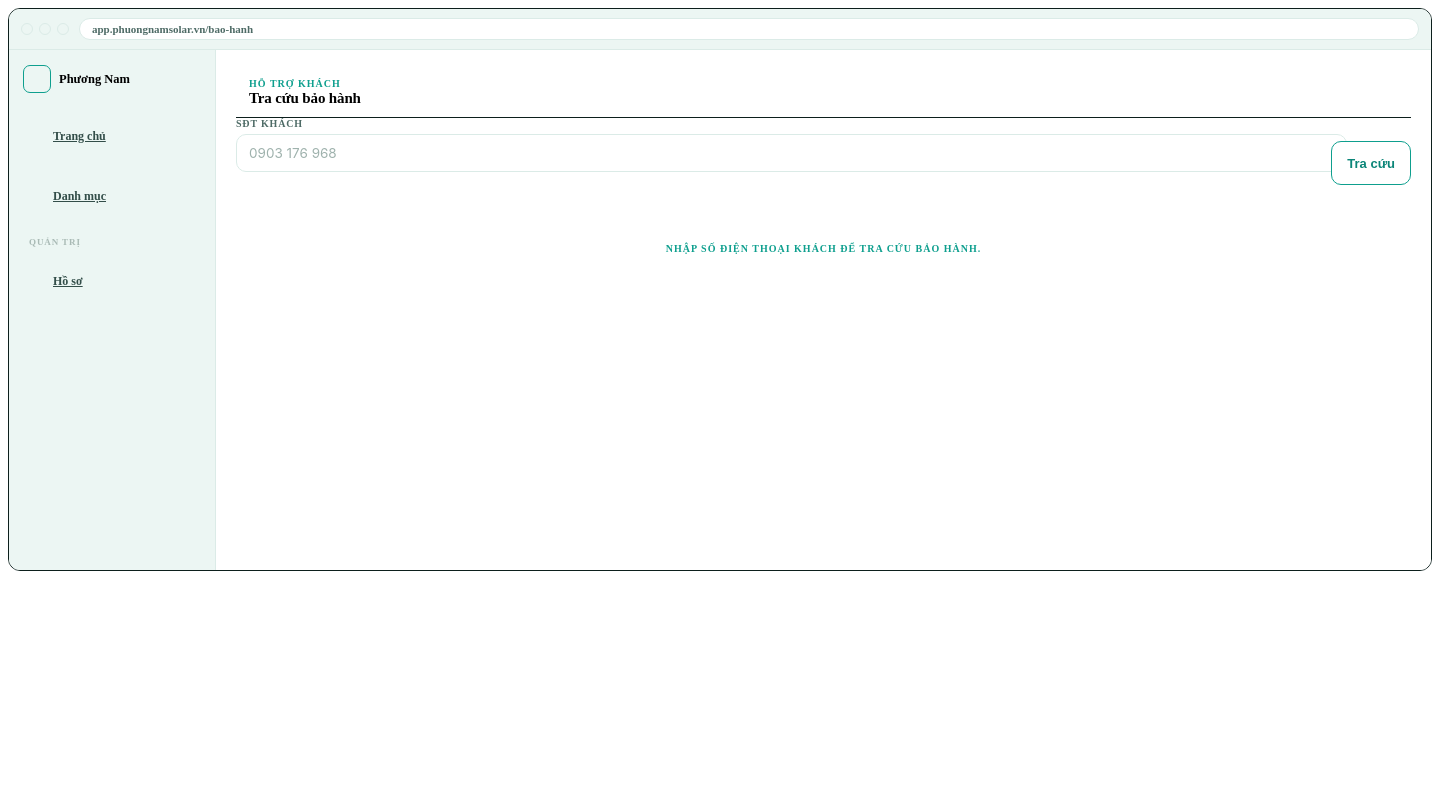
Test: smoke render — mọi màn web/src/screens › WarrantyLookupScreen — tra cứu SĐT ra kết quả
Type "+84903176968" into the field labelled "SĐT khách" at (792, 153), box [236, 134, 1347, 172]
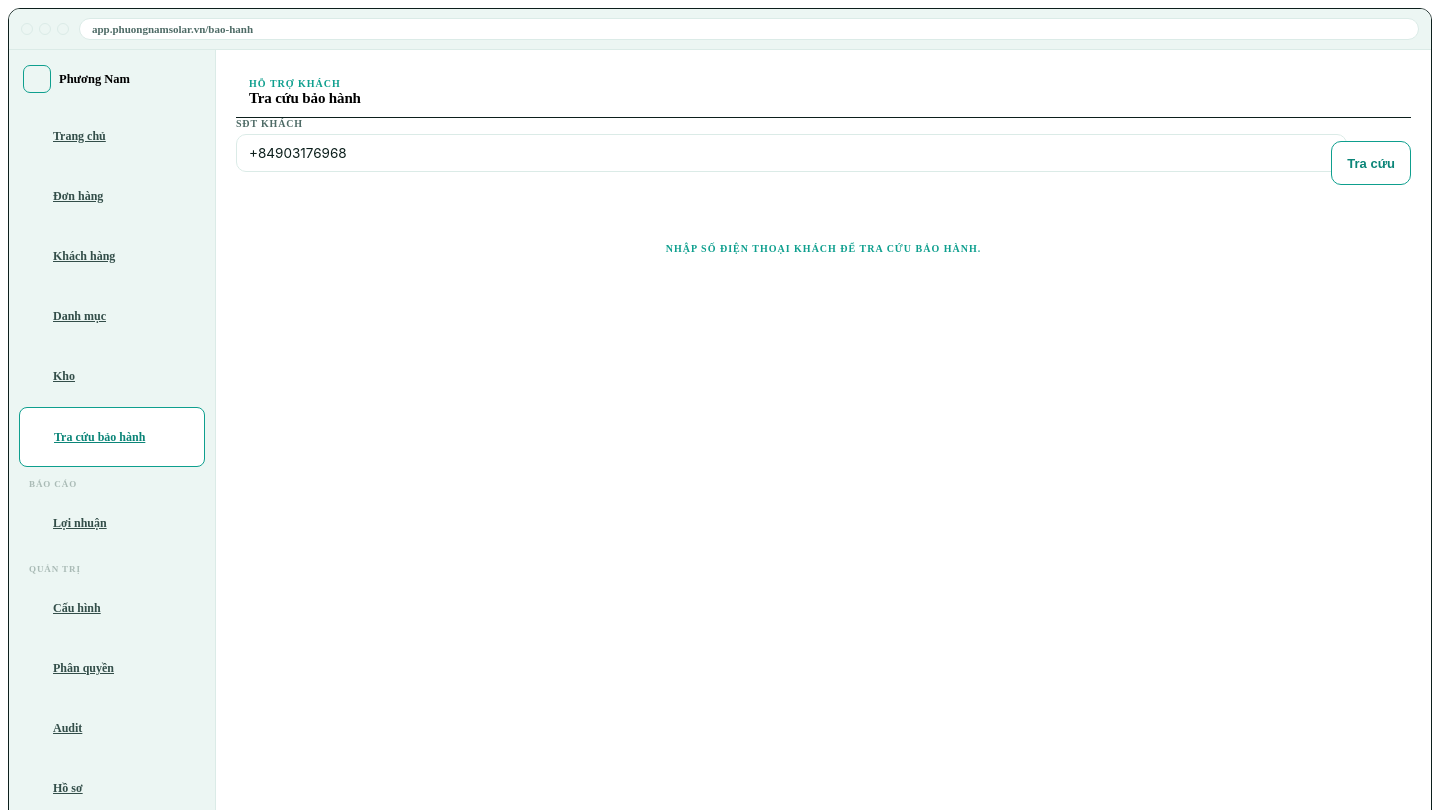
Click the button "Tra cứu" at (1371, 163), box [1331, 141, 1411, 185]
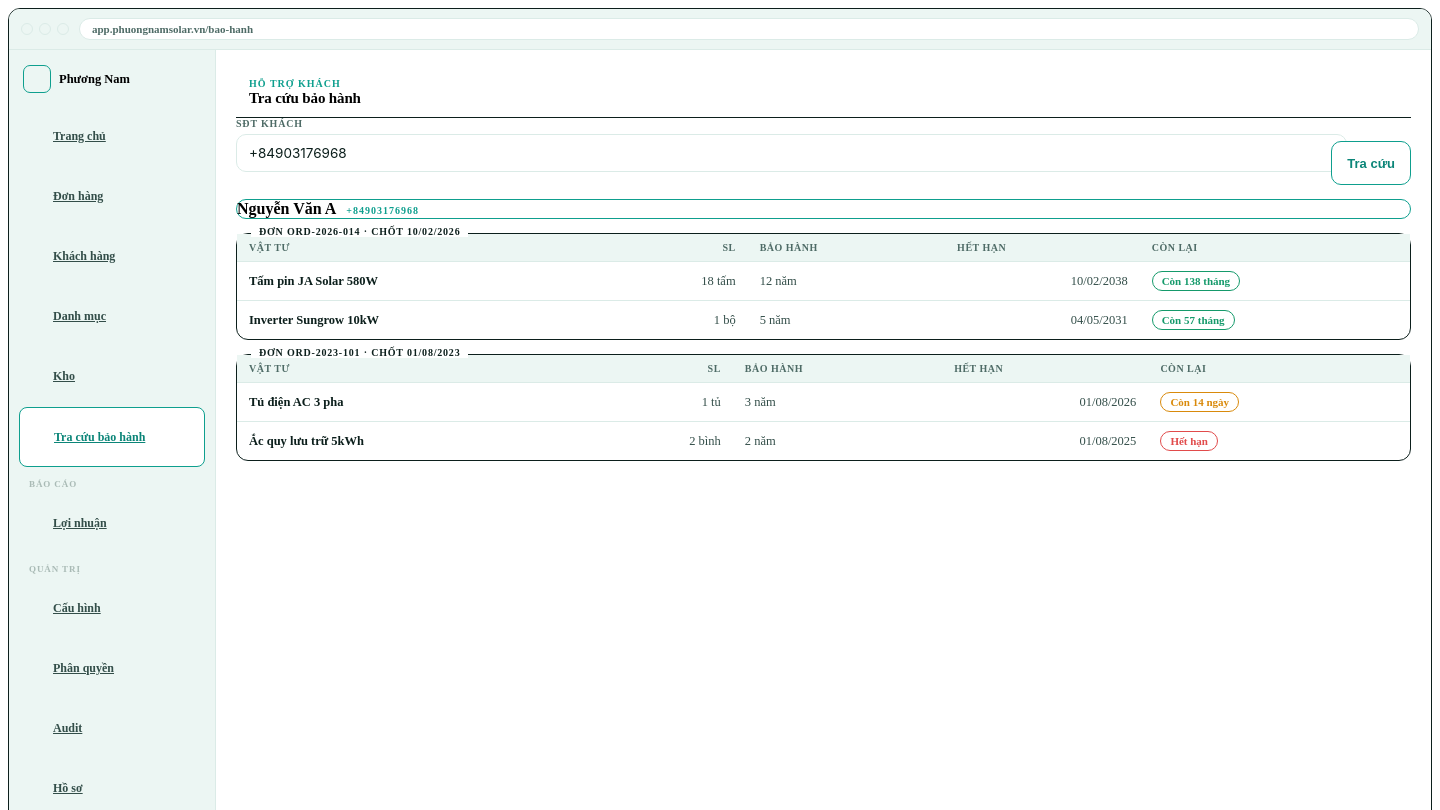
Expected: the text "Đơn ord-2026-014 · chốt 10/02/2026" is shown, [251, 226, 468, 237]
